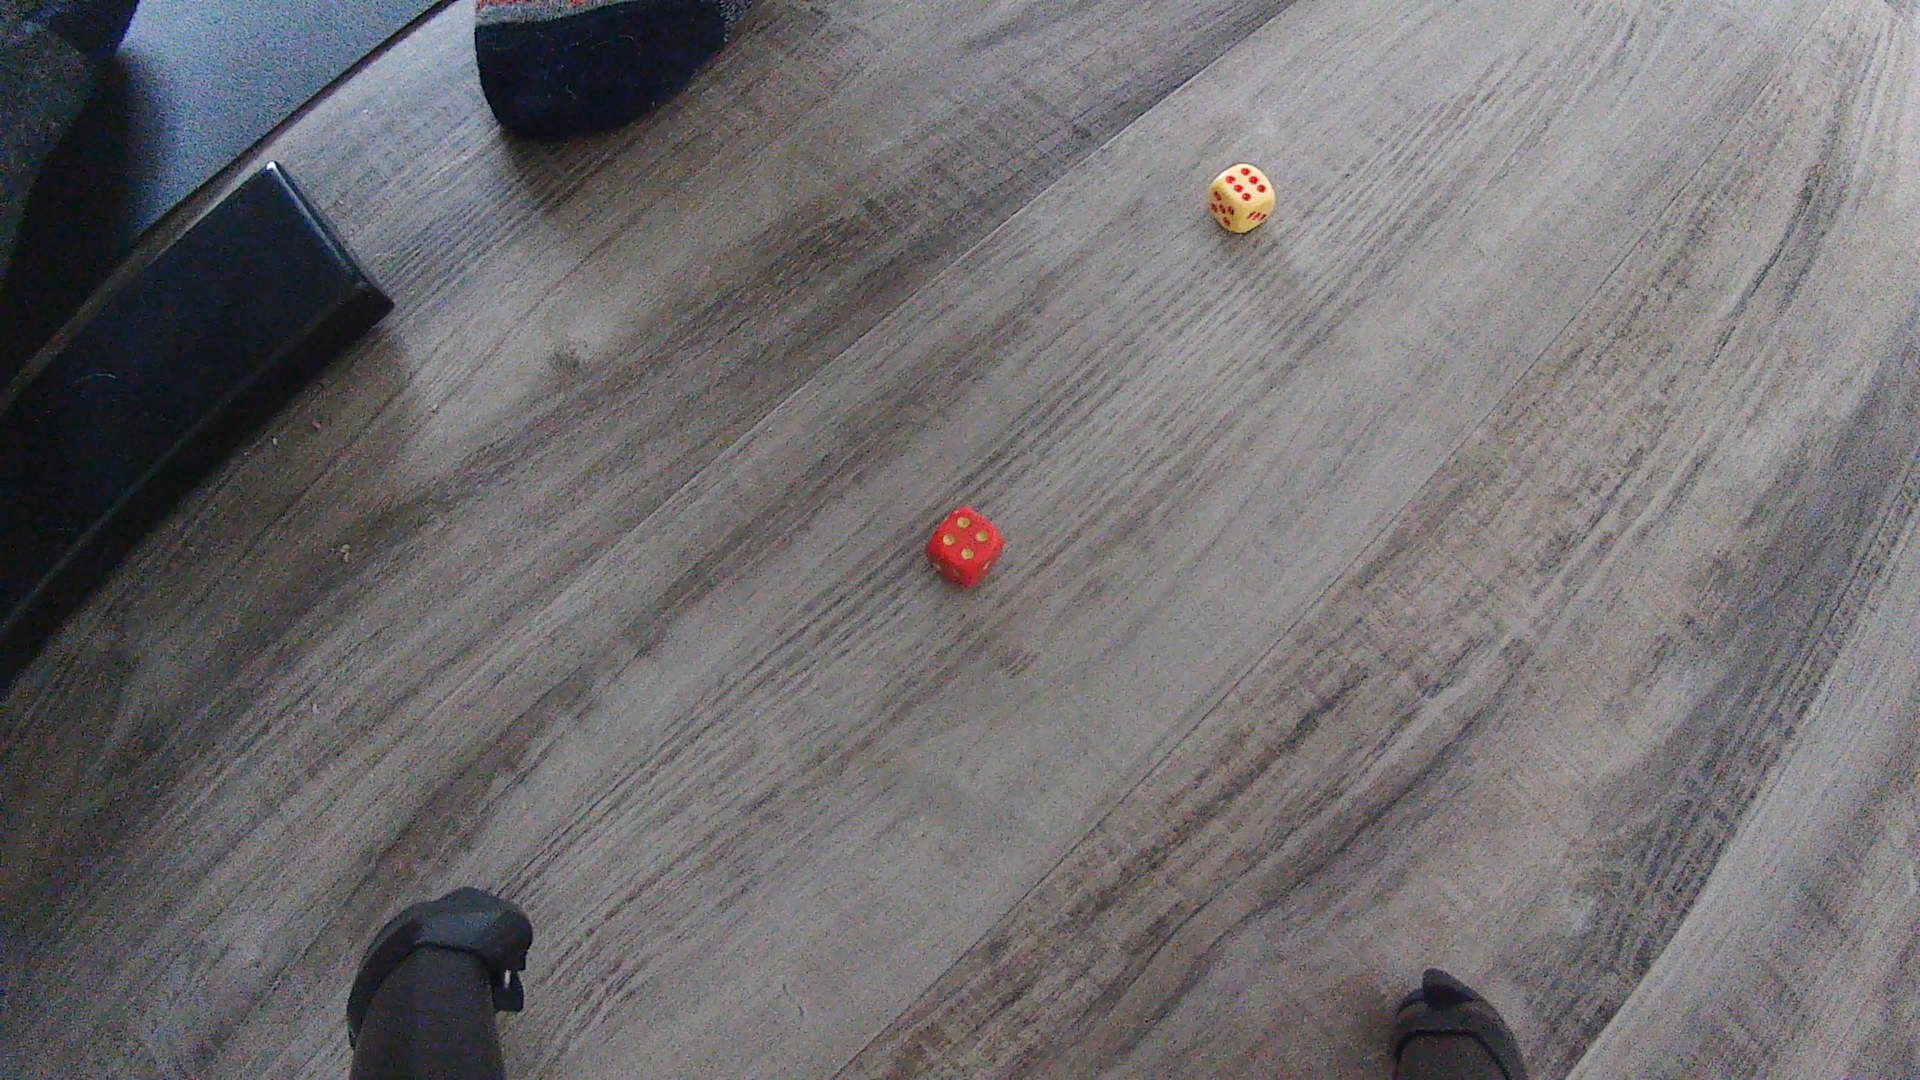die: (927, 506, 1005, 589), (1207, 161, 1278, 235)
